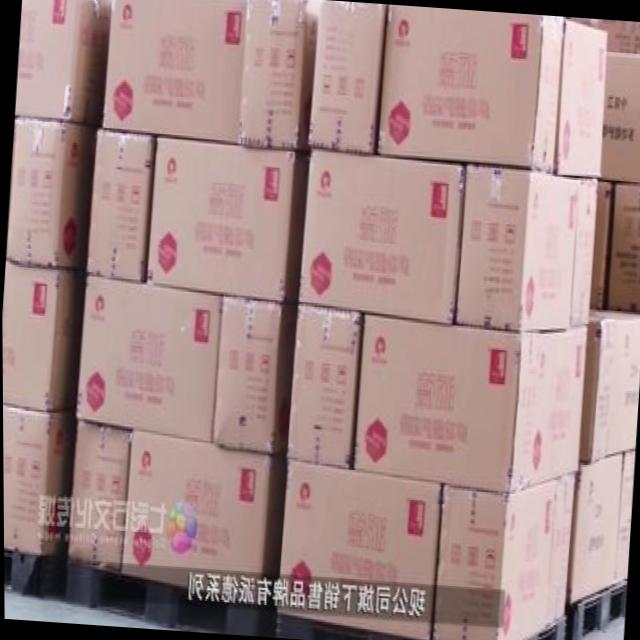box: (353, 316, 585, 492), (376, 4, 563, 171), (298, 146, 466, 325), (276, 459, 441, 640), (121, 431, 281, 600), (146, 135, 302, 300), (75, 274, 221, 443), (431, 474, 574, 640), (101, 0, 247, 143), (456, 163, 577, 332), (211, 296, 296, 455), (5, 115, 88, 271), (235, 0, 319, 152), (286, 303, 360, 469), (308, 0, 385, 155), (2, 257, 79, 412), (86, 127, 155, 284), (14, 0, 97, 124), (2, 405, 66, 557), (578, 308, 640, 461), (66, 420, 129, 569), (555, 18, 608, 175), (569, 454, 621, 607), (596, 51, 640, 184), (606, 182, 640, 312), (569, 178, 598, 327), (589, 179, 611, 310), (613, 449, 634, 582), (569, 18, 640, 54)
